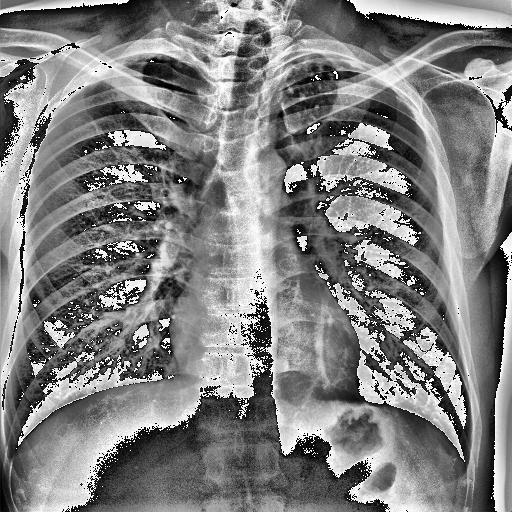10- Pleural effusion: (0, 443, 20, 468)
11- Pleural thickening: (82, 52, 180, 86), (84, 52, 186, 80), (274, 52, 369, 82), (80, 54, 180, 82), (346, 57, 407, 99), (285, 48, 368, 68), (0, 443, 20, 468)
13- Pulmonary fibrosis: (284, 60, 361, 147), (282, 58, 334, 130), (288, 64, 334, 110)
